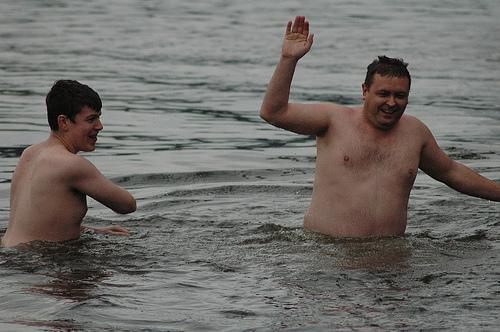human: (258, 16, 500, 238), (0, 78, 144, 251)
